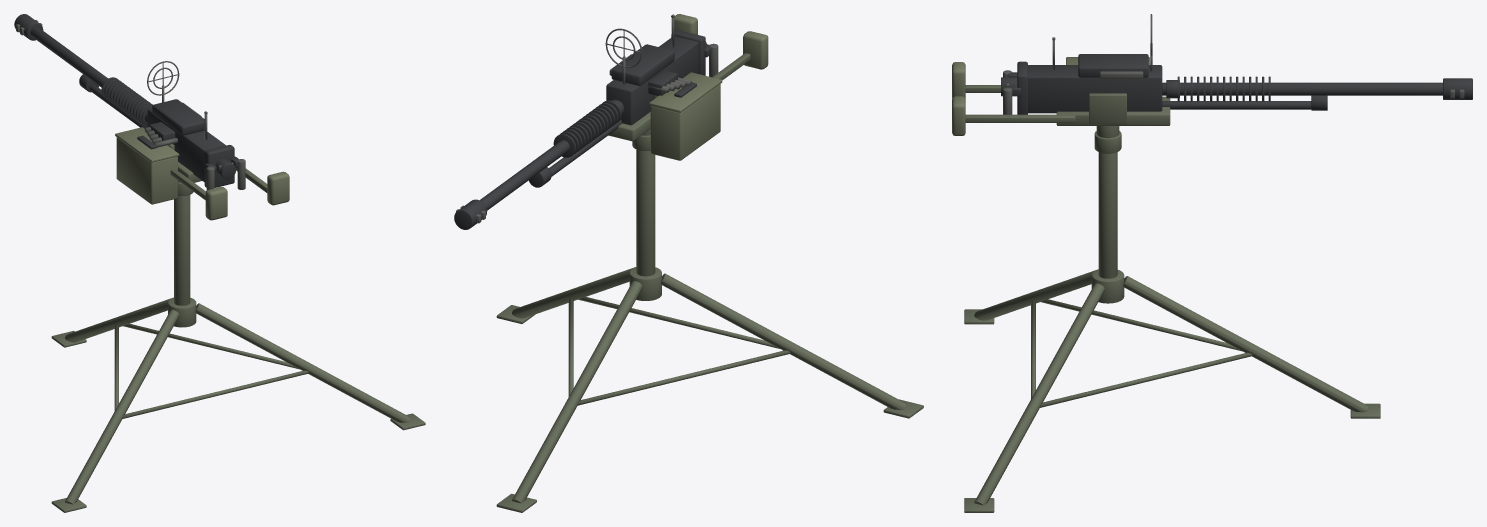
Rendered from wpn_dshk.glb.
3 views of the same model, side by side, from view 1: azimuth 30°, elevation 25°; view 2: azimuth 150°, elevation 25°; view 3: azimuth 270°, elevation 25° (orthographic). The views are drawn at different scales.
Parts seen in each view (by area): view 1: dshk_base_dshk_paint, dshk_pitch_dshk_steel, dshk_pitch_dshk_ammo_box, dshk_pitch_dshk_steel_worn, dshk_yaw_dshk_ammo_box, dshk_yaw_dshk_paint; view 2: dshk_base_dshk_paint, dshk_pitch_dshk_steel, dshk_pitch_dshk_ammo_box, dshk_pitch_dshk_steel_worn, dshk_yaw_dshk_ammo_box, dshk_yaw_dshk_paint; view 3: dshk_base_dshk_paint, dshk_pitch_dshk_steel, dshk_yaw_dshk_paint, dshk_pitch_dshk_steel_worn, dshk_yaw_dshk_ammo_box.
Boxes of the visible parts, x1,y1,x2,y2 form: dshk_base_dshk_paint: (51, 182, 425, 512); dshk_pitch_dshk_steel: (14, 14, 238, 187); dshk_pitch_dshk_ammo_box: (115, 127, 179, 204); dshk_pitch_dshk_steel_worn: (16, 20, 245, 190); dshk_yaw_dshk_ammo_box: (205, 171, 289, 220); dshk_yaw_dshk_paint: (167, 144, 267, 200); dshk_base_dshk_paint: (496, 135, 923, 512); dshk_pitch_dshk_steel: (454, 30, 711, 229); dshk_pitch_dshk_ammo_box: (649, 72, 722, 160); dshk_pitch_dshk_steel_worn: (456, 14, 718, 223); dshk_yaw_dshk_ammo_box: (674, 14, 768, 69); dshk_yaw_dshk_paint: (608, 53, 750, 141); dshk_base_dshk_paint: (964, 131, 1380, 512); dshk_pitch_dshk_steel: (1001, 54, 1472, 114); dshk_yaw_dshk_paint: (965, 85, 1170, 138); dshk_pitch_dshk_steel_worn: (1003, 14, 1464, 114); dshk_yaw_dshk_ammo_box: (952, 62, 965, 135).
Bounding box in the file's own units: 1.76 × 1.63 × 1.92.
